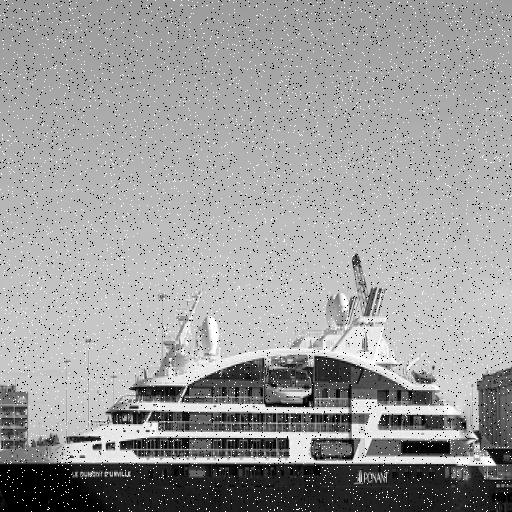cruises: (1, 257, 512, 512)
